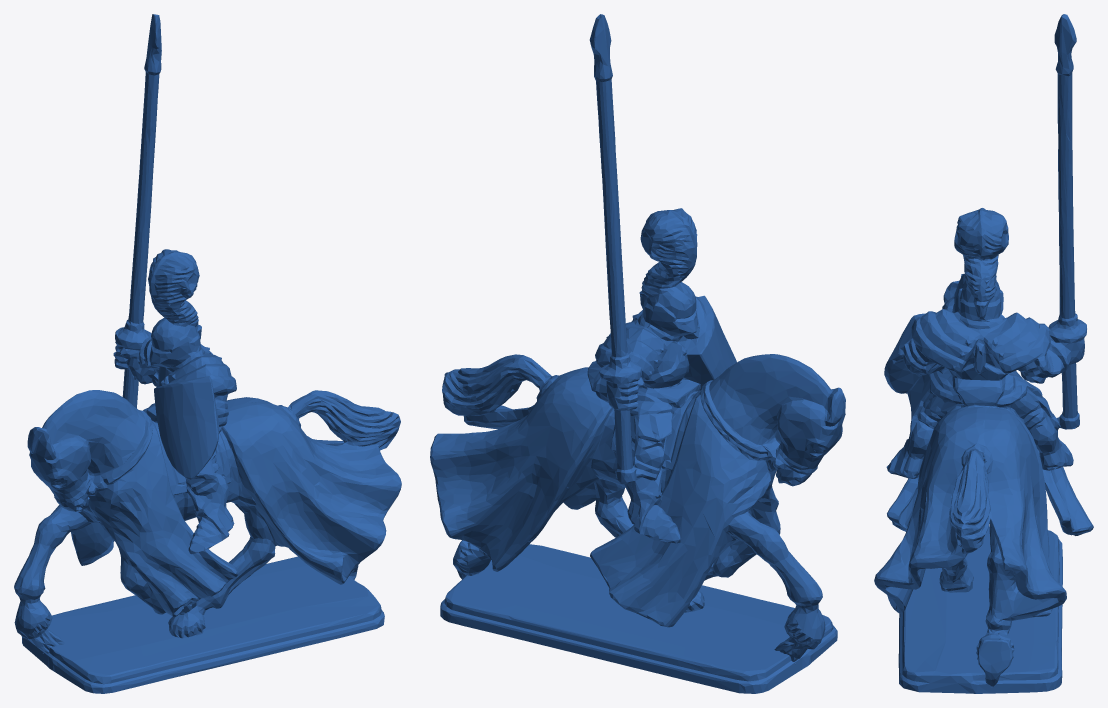
The model's file is imperial_knights.glb.
The picture shows the model from 3 angles, left to right: view 1: azimuth 30°, elevation 25°; view 2: azimuth 150°, elevation 25°; view 3: azimuth 270°, elevation 25°; orthographic projection. The views are drawn at different scales.
Parts seen in each view (by area): view 1: Imperial_Knights_Solid_Imperial_Army; view 2: Imperial_Knights_Solid_Imperial_Army; view 3: Imperial_Knights_Solid_Imperial_Army.
Boxes of the visible parts, bbox=[...] form: Imperial_Knights_Solid_Imperial_Army: bbox=[14, 14, 401, 693]; Imperial_Knights_Solid_Imperial_Army: bbox=[430, 14, 845, 693]; Imperial_Knights_Solid_Imperial_Army: bbox=[874, 14, 1093, 693].
Size of the model in its own units: 33.56 by 51.5 by 17.11.
